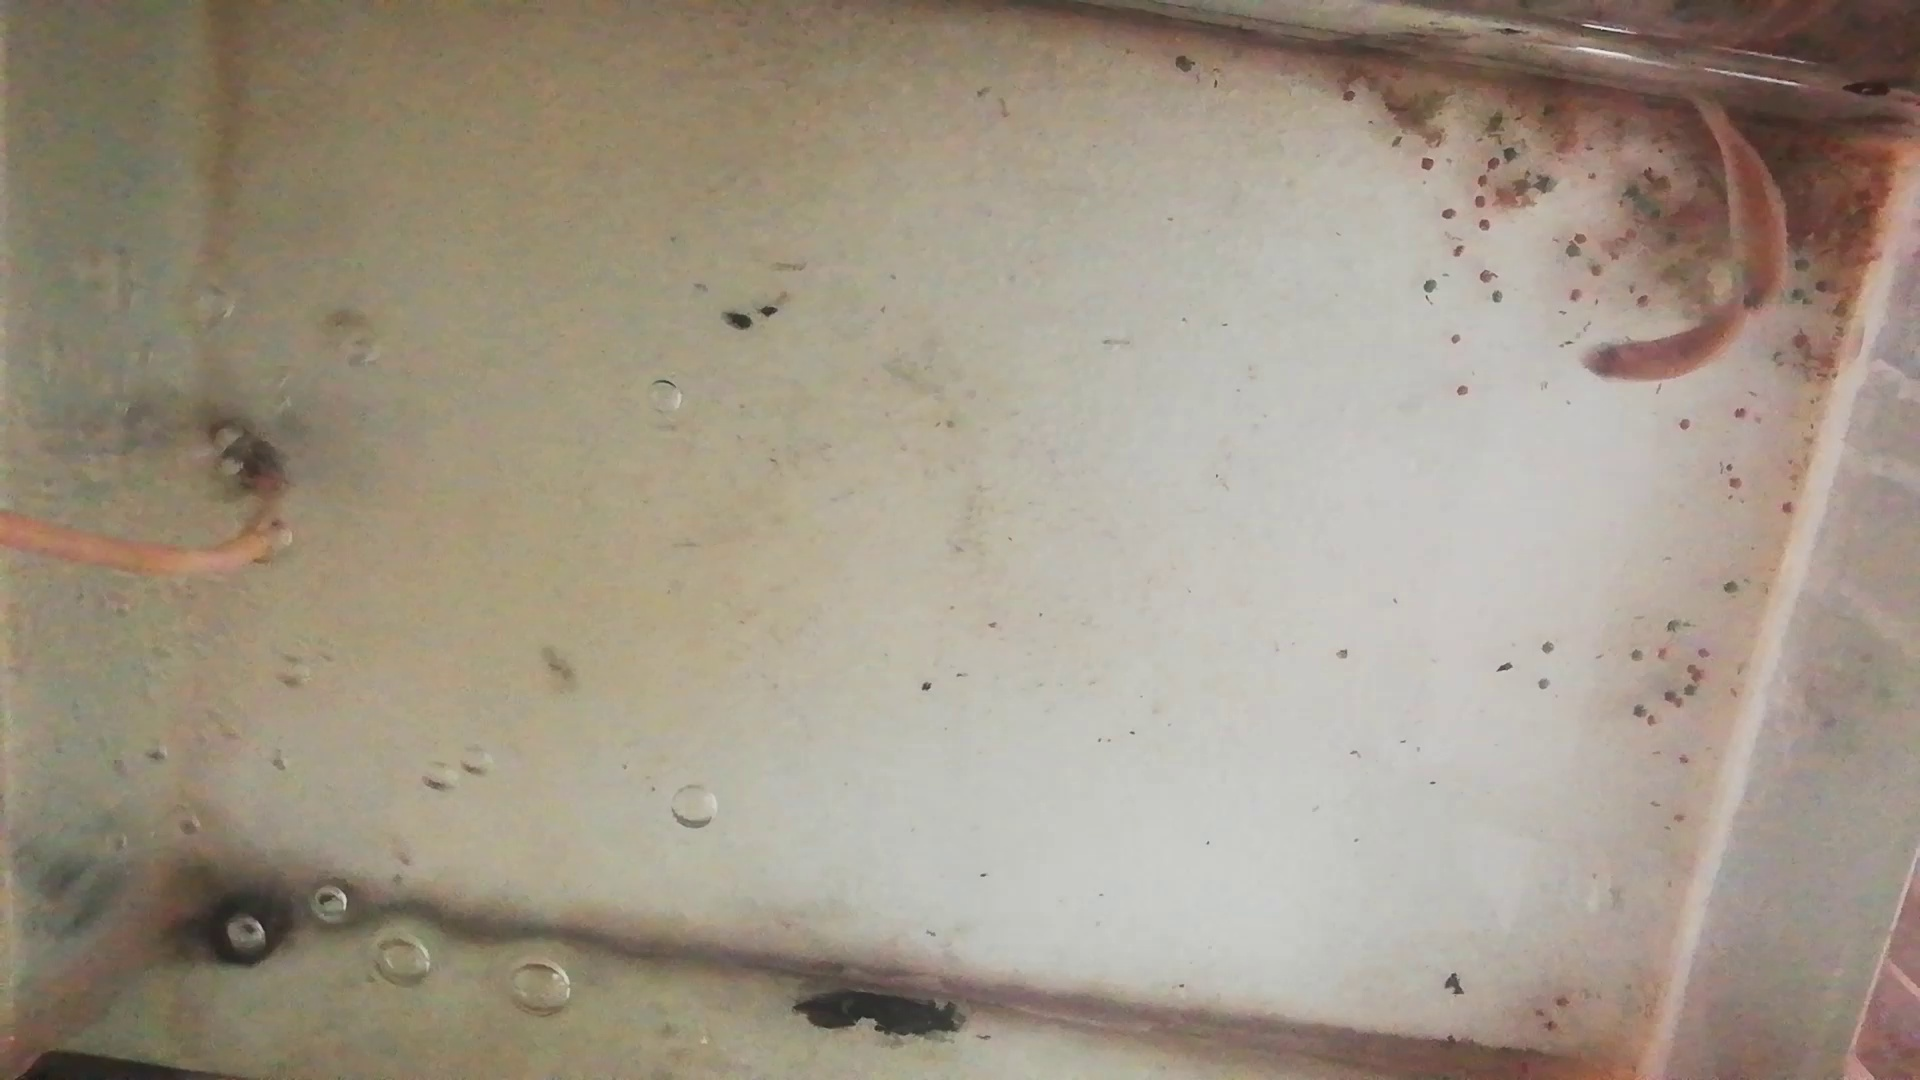fish: (1704, 100, 1791, 319), (1584, 297, 1756, 378)
